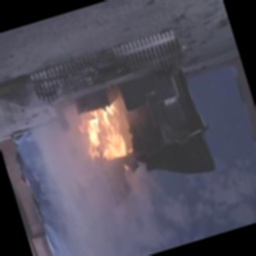fire: (68, 87, 151, 181)
